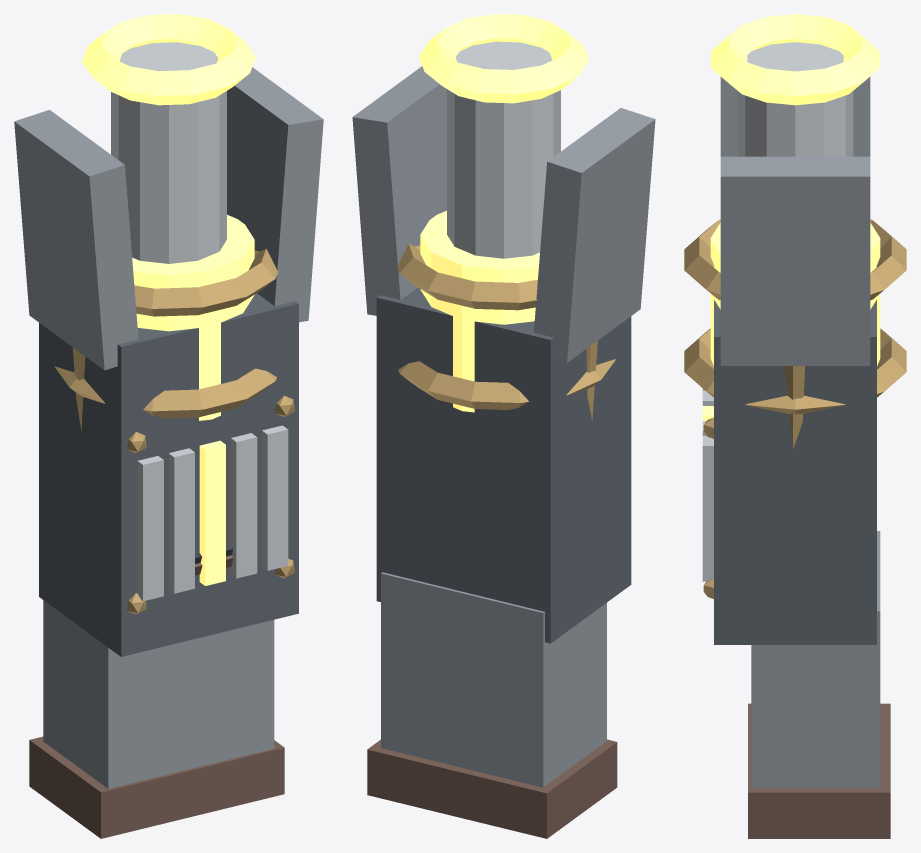
Rendered from nova_cannon.glb.
3 renders of one model, left to right at view 1: azimuth 30°, elevation 25°; view 2: azimuth 150°, elevation 25°; view 3: azimuth 270°, elevation 25°, orthographic. The views are drawn at different scales.
Parts seen in each view (by area): view 1: SiegeReceiver, RecoilStock, HeatFin_-1, HeavyBarrel, HeatFin_1, ShockPad, OrangeMuzzle, PlasmaChamber, ChamberBraceFront, ChamberBraceRear, CoolingVent_3, CoolingVent_1 (+3 smaller); view 2: SiegeReceiver, RecoilStock, HeatFin_-1, HeavyBarrel, HeatFin_1, ShockPad, OrangeMuzzle, PlasmaChamber, ChamberBraceFront, ChamberBraceRear; view 3: SiegeReceiver, HeatFin_1, RecoilStock, OrangeMuzzle, HeavyBarrel, ShockPad, ChamberBraceRear, ChamberBraceFront, HeatFin_-1, CoolingVent_4, PlasmaChamber, ReceiverBrace_1.
Boxes of the visible parts, x1,y1,x2,y2 form: SiegeReceiver: (39,293,298,656); RecoilStock: (43,600,274,788); HeatFin_-1: (14,110,138,370); HeavyBarrel: (111,42,226,263); HeatFin_1: (227,67,323,322); ShockPad: (29,736,284,838); OrangeMuzzle: (82,14,255,105); PlasmaChamber: (132,214,254,420); ChamberBraceFront: (134,248,278,316); ChamberBraceRear: (55,366,276,418); CoolingVent_3: (230,433,257,578); CoolingVent_1: (168,448,194,593); SiegeReceiver: (376,287,631,643); RecoilStock: (381,572,606,787); HeatFin_-1: (534,108,655,362); HeavyBarrel: (447,41,560,258); HeatFin_1: (352,66,446,315); ShockPad: (367,739,617,838); OrangeMuzzle: (419,14,588,103); PlasmaChamber: (420,210,539,412); ChamberBraceFront: (397,244,537,310); ChamberBraceRear: (398,359,615,409); SiegeReceiver: (714,300,876,644); HeatFin_1: (720,156,870,365); RecoilStock: (751,531,880,788); OrangeMuzzle: (711,14,879,105); HeavyBarrel: (737,42,853,156); ShockPad: (748,703,890,838); ChamberBraceRear: (684,328,906,414); ChamberBraceFront: (684,219,906,300); HeatFin_-1: (720,76,870,156); CoolingVent_4: (702,436,713,581); PlasmaChamber: (710,223,880,365); ReceiverBrace_1: (784,366,804,449).
Bounding box in the file's own units: 0.7908 × 2.44 × 0.6532.
